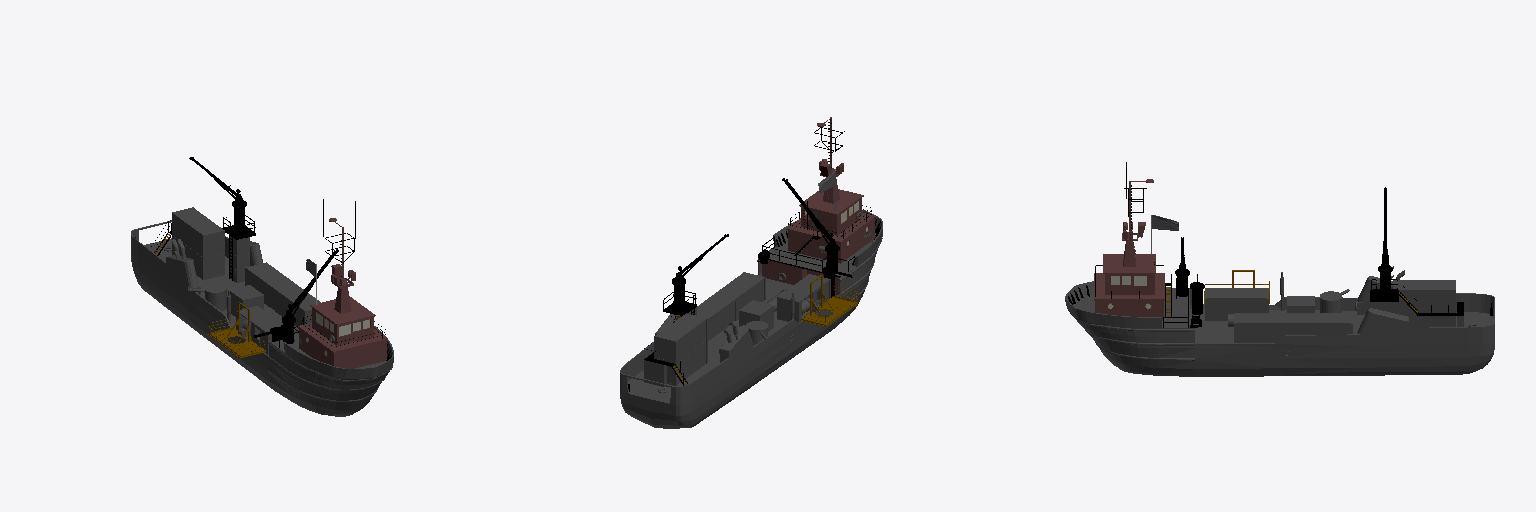
The model's file is shipboat3.obj.
The picture shows the model from 3 angles: view 1: azimuth 30°, elevation 25°; view 2: azimuth 150°, elevation 25°; view 3: azimuth 270°, elevation 25°; orthographic projection.
Visible parts, largest first — view 1: (null); view 2: (null); view 3: (null).
Boxes of the visible parts, box(x1,y1,x2,y2) form: (null): box(131, 157, 393, 416); (null): box(620, 117, 882, 428); (null): box(1065, 162, 1494, 376).
Size of the model in its own units: 9.72 by 18.1 by 33.5.